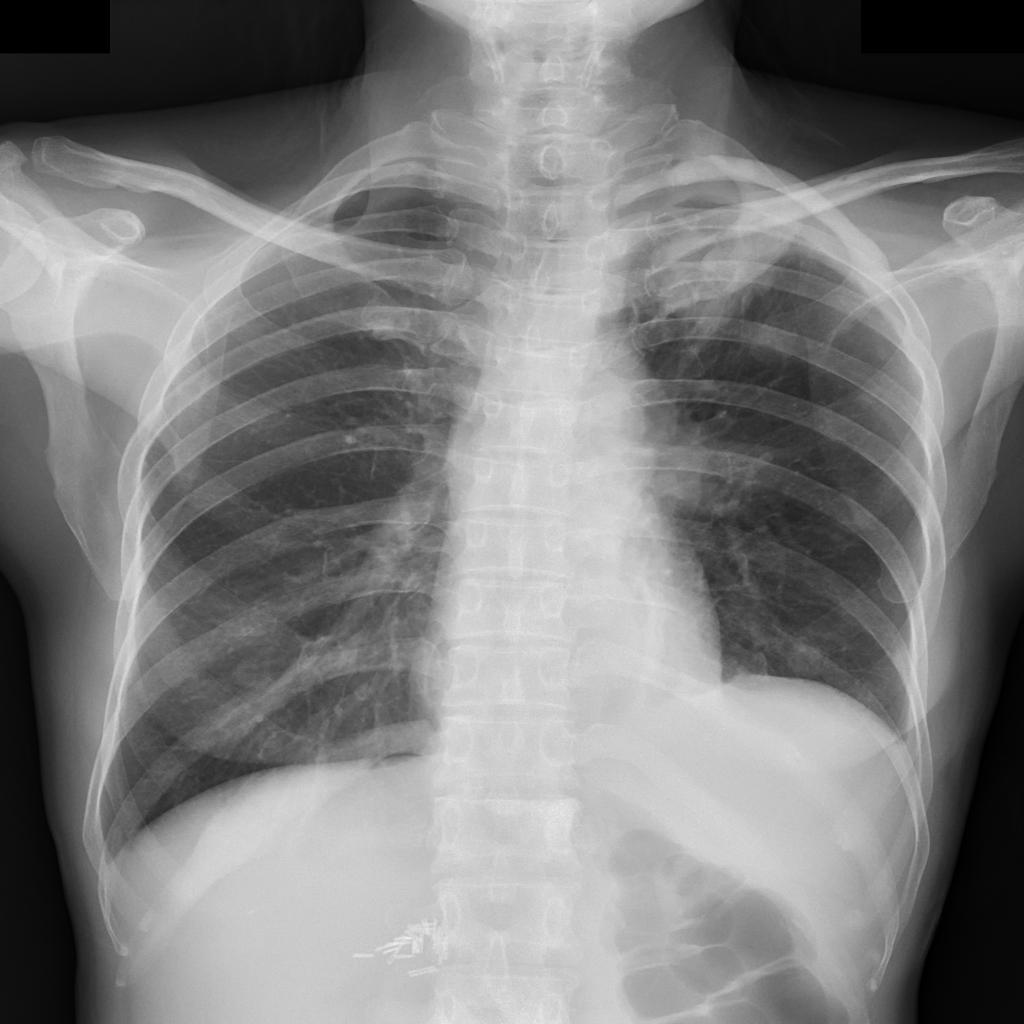Nodule: (647, 226, 785, 332), (652, 444, 710, 506), (748, 324, 797, 362), (230, 658, 277, 692), (781, 645, 823, 677)
